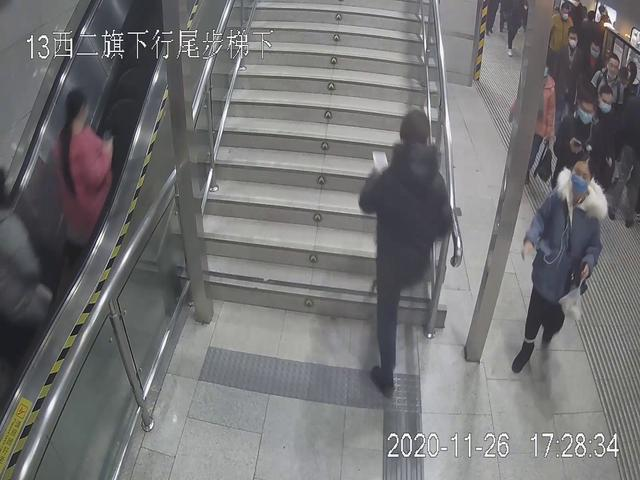person: (358, 107, 459, 387), (510, 147, 608, 367), (51, 89, 120, 254), (552, 28, 585, 122)
